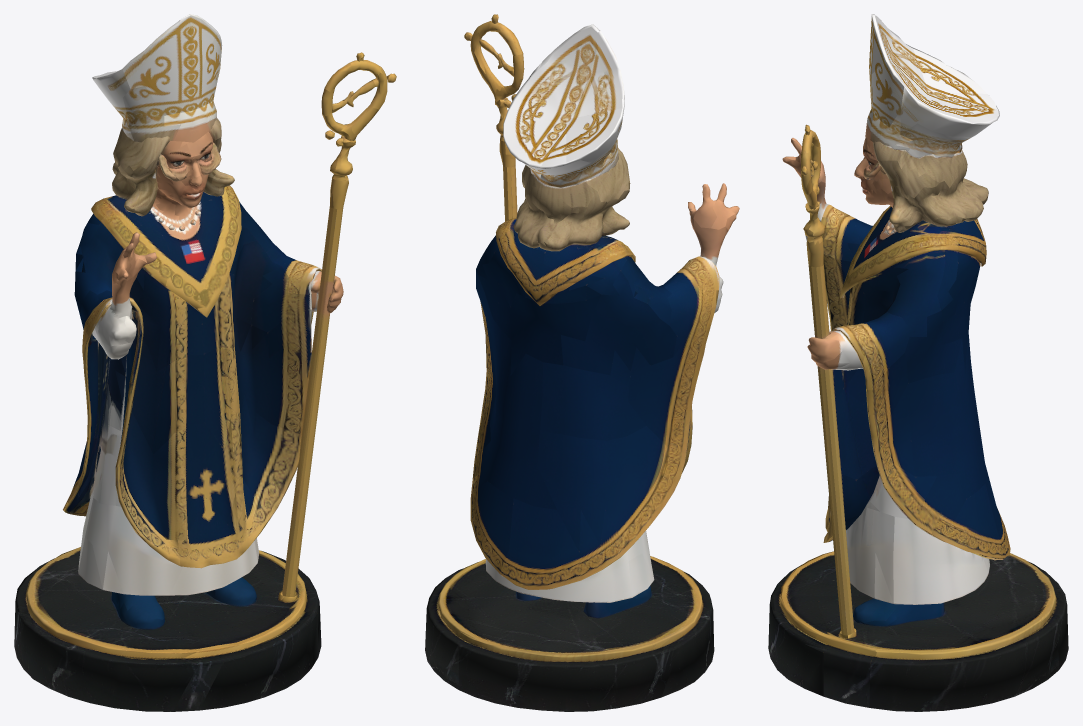
File: left-bishop-ks.glb
3 views of the same model, side by side, from view 1: azimuth 30°, elevation 25°; view 2: azimuth 150°, elevation 25°; view 3: azimuth 270°, elevation 25° (orthographic). The views are drawn at different scales.
Bounding box in the file's own units: 0.4902 × 1 × 0.4297.
1 material, 1 textured.
